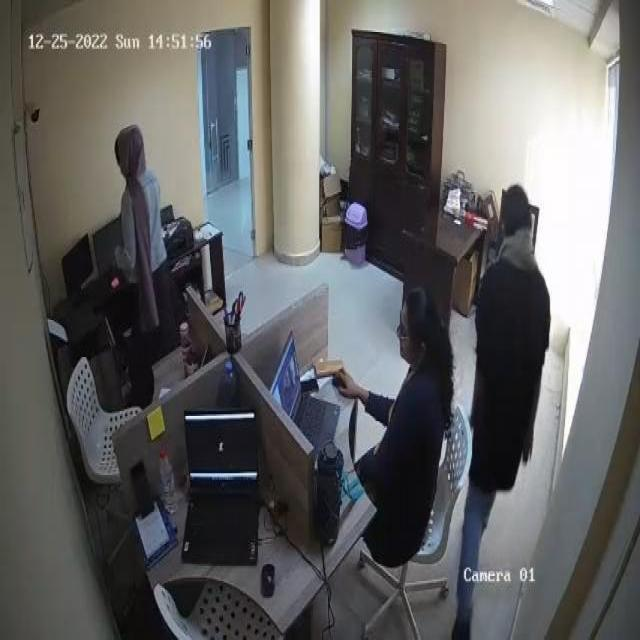bare_hand: (334, 367, 371, 401)
